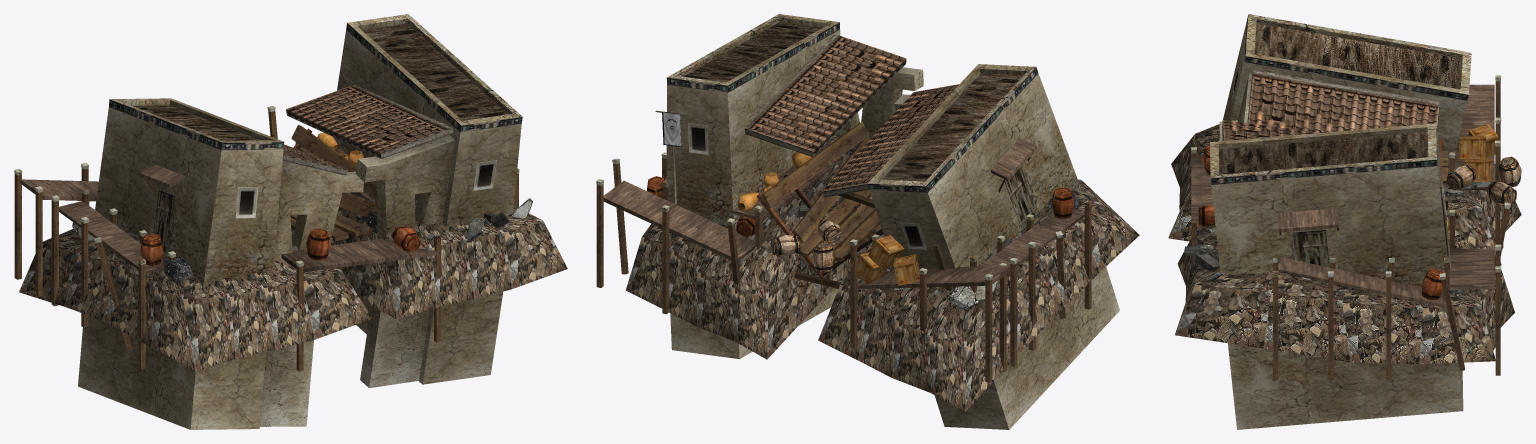
File: rubble_kart_dock.glb
3 views of the same model, side by side, from view 1: azimuth 30°, elevation 25°; view 2: azimuth 150°, elevation 25°; view 3: azimuth 270°, elevation 25° (orthographic).
Parts seen in each view (by area): view 1: rubble_kart_dock_part1, rubble_kart_dock_part0, rubble_kart_dock_part2; view 2: rubble_kart_dock_part1, rubble_kart_dock_part0, rubble_kart_dock_part2, rubble_kart_dock_part3; view 3: rubble_kart_dock_part1, rubble_kart_dock_part0, rubble_kart_dock_part2, rubble_kart_dock_part3.
Boxes of the visible parts, box(x1,y1,x2,y2) form: rubble_kart_dock_part1: box(78, 14, 522, 429); rubble_kart_dock_part0: box(19, 192, 567, 371); rubble_kart_dock_part2: box(14, 106, 519, 371); rubble_kart_dock_part1: box(655, 14, 1119, 429); rubble_kart_dock_part0: box(625, 134, 1139, 411); rubble_kart_dock_part2: box(596, 122, 1092, 382); rubble_kart_dock_part3: box(771, 220, 840, 272); rubble_kart_dock_part1: box(1210, 14, 1471, 429); rubble_kart_dock_part0: box(1168, 124, 1521, 364); rubble_kart_dock_part2: box(1191, 75, 1510, 380); rubble_kart_dock_part3: box(1446, 156, 1521, 204).
Size of the model in its own units: 7.12 by 5.03 by 5.31.
Materials: 4 (4 with a texture image).
